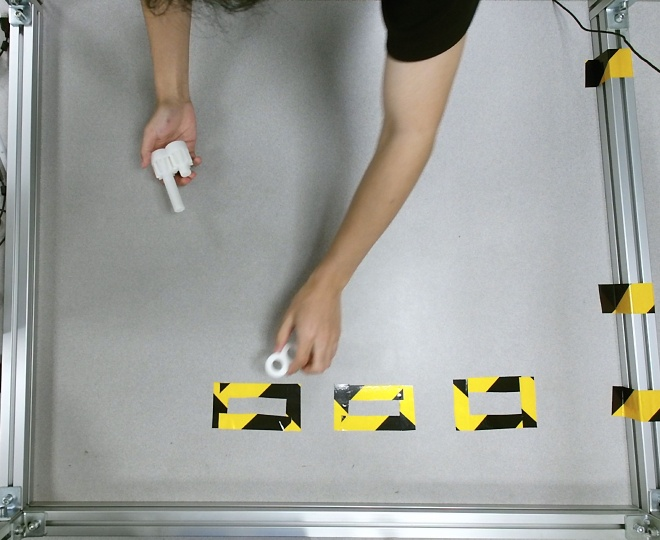stage_3: (152, 140, 191, 214)
